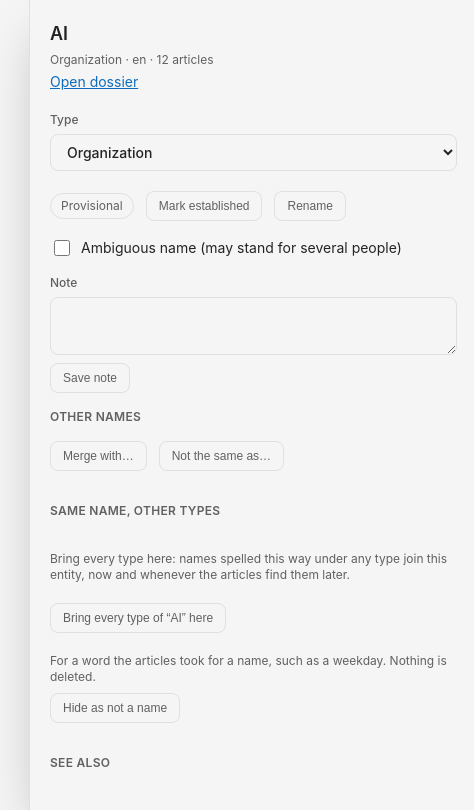
Test: explains a refused claim
Step 1. Click the button "Bring every type of “AI” here" → (138, 618), box [50,603,226,633]
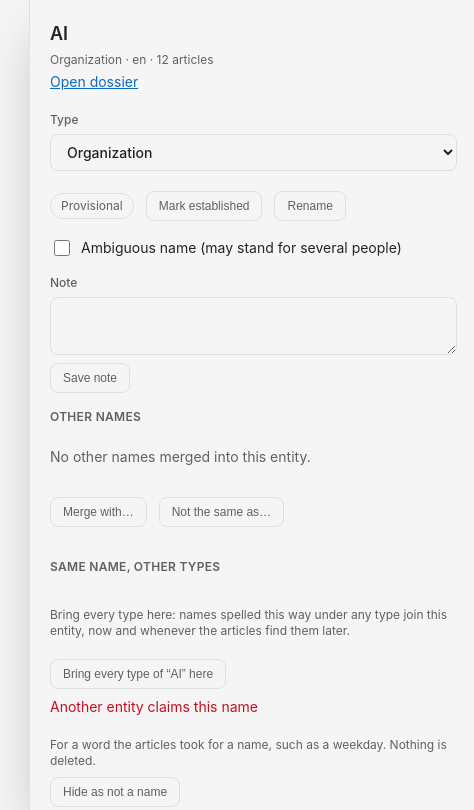
Result: the message reads "Another entity claims this name" at [50,698,258,715]
